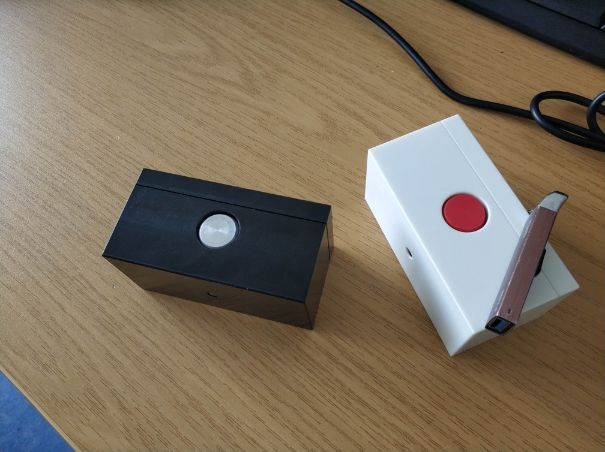black+black+silver: (96, 165, 340, 331)
white+white+red: (360, 112, 585, 360)
